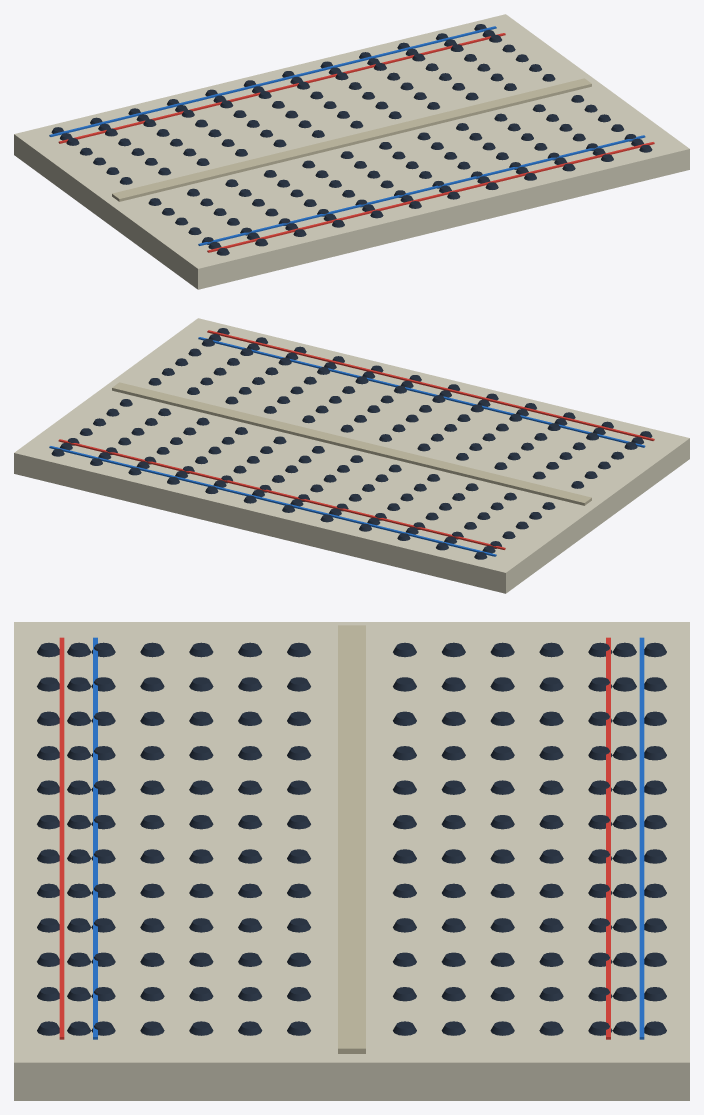
Rendered from breadboard-cutaway.glb.
The picture shows the model from 3 angles, top to bottom: view 1: azimuth 30°, elevation 25°; view 2: azimuth 150°, elevation 25°; view 3: azimuth 270°, elevation 25°; orthographic projection. The views are drawn at different scales.
Parts seen in each view (by area): view 1: Solderless breadboard shell, Center gap, Bottom negative guide, Top negative guide, Top positive guide, Bottom positive guide; view 2: Solderless breadboard shell, Center gap, Top positive guide, Bottom positive guide, Bottom negative guide, Top negative guide; view 3: Solderless breadboard shell, Center gap, Top positive guide, Bottom negative guide, Top negative guide, Bottom positive guide.
Part boxes in pixels (x1=…): Solderless breadboard shell: x1=14, y1=14, x2=689, y2=289; Center gap: x1=112, y1=78, x2=591, y2=201; Bottom negative guide: x1=49, y1=26, x2=496, y2=136; Top negative guide: x1=198, y1=135, x2=645, y2=245; Top positive guide: x1=207, y1=142, x2=654, y2=252; Bottom positive guide: x1=58, y1=33, x2=505, y2=143; Solderless breadboard shell: x1=14, y1=318, x2=689, y2=593; Center gap: x1=112, y1=382, x2=591, y2=505; Top positive guide: x1=207, y1=330, x2=654, y2=440; Bottom positive guide: x1=58, y1=439, x2=505, y2=549; Bottom negative guide: x1=49, y1=446, x2=496, y2=556; Top negative guide: x1=198, y1=337, x2=645, y2=447; Solderless breadboard shell: x1=14, y1=622, x2=689, y2=1100; Center gap: x1=338, y1=625, x2=365, y2=1053; Top positive guide: x1=59, y1=637, x2=64, y2=1039; Bottom negative guide: x1=639, y1=637, x2=644, y2=1039; Top negative guide: x1=93, y1=637, x2=97, y2=1039; Bottom positive guide: x1=606, y1=637, x2=610, y2=1039.
Bounding box in the file's own units: 12.8 × 0.6075 × 8.3.
